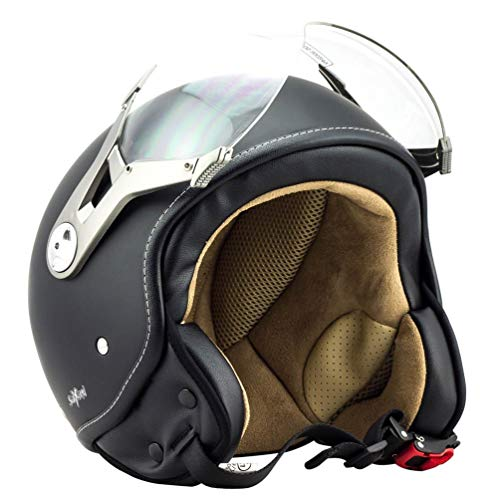with_helmet: (13, 65, 479, 440)
